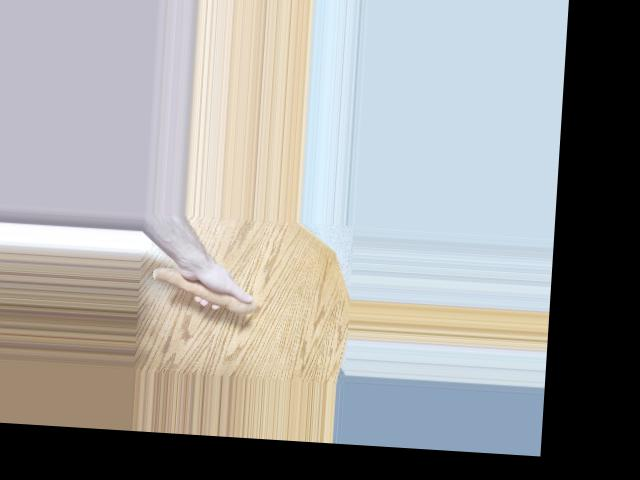sweet_potato: (149, 263, 259, 318)
